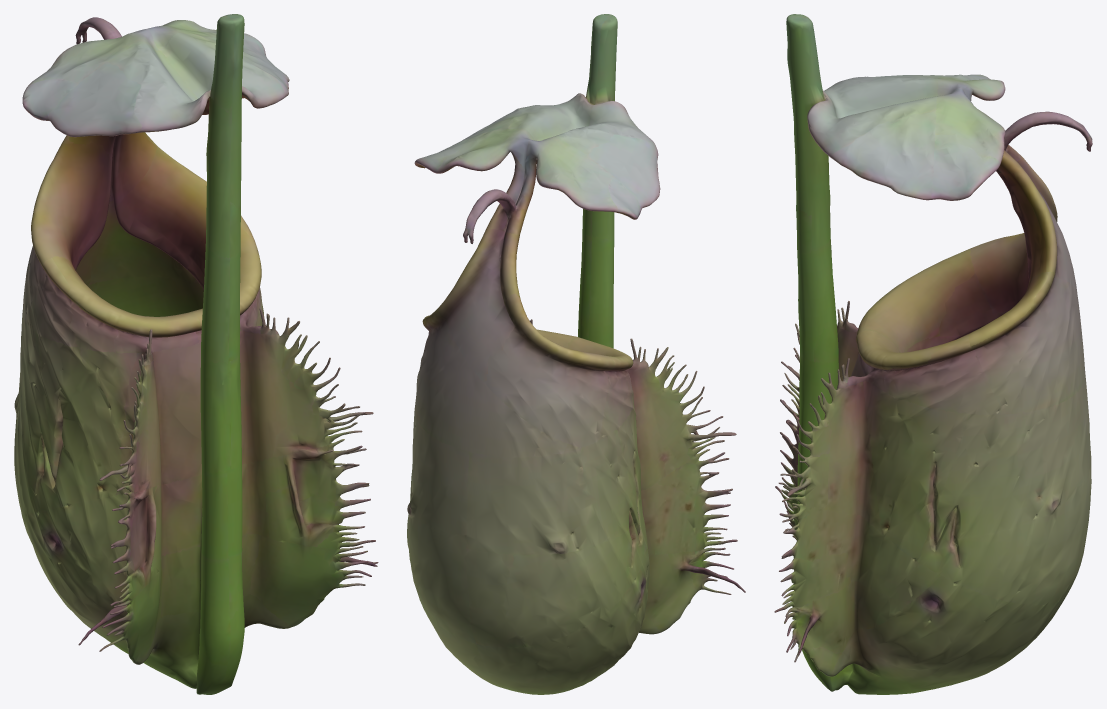
The model's file is sz-nepenthes.glb.
3 views of the same model, side by side, from view 1: azimuth 30°, elevation 25°; view 2: azimuth 150°, elevation 25°; view 3: azimuth 270°, elevation 25° (orthographic). The views are drawn at different scales.
Parts seen in each view (by area): view 1: tripo_node_63f56397-8ee2-4bbe-9a6e-87769168e1f4; view 2: tripo_node_63f56397-8ee2-4bbe-9a6e-87769168e1f4; view 3: tripo_node_63f56397-8ee2-4bbe-9a6e-87769168e1f4.
Part boxes in pixels (x1,y1,x2,y2): tripo_node_63f56397-8ee2-4bbe-9a6e-87769168e1f4: [14, 14, 378, 694]; tripo_node_63f56397-8ee2-4bbe-9a6e-87769168e1f4: [407, 14, 745, 694]; tripo_node_63f56397-8ee2-4bbe-9a6e-87769168e1f4: [774, 14, 1092, 694].
Size of the model in its own units: 0.4524 by 0.9999 by 0.4269.
1 material, 1 textured.
